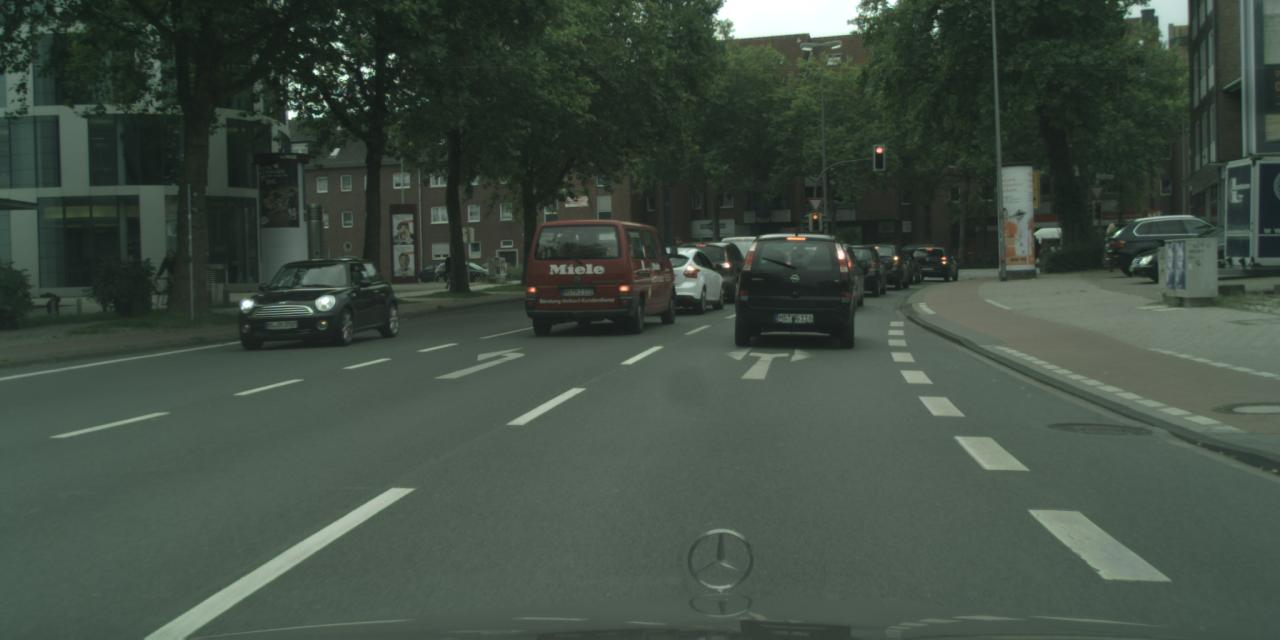ped: (164, 250, 184, 300), (1101, 222, 1121, 271), (443, 251, 458, 288)
